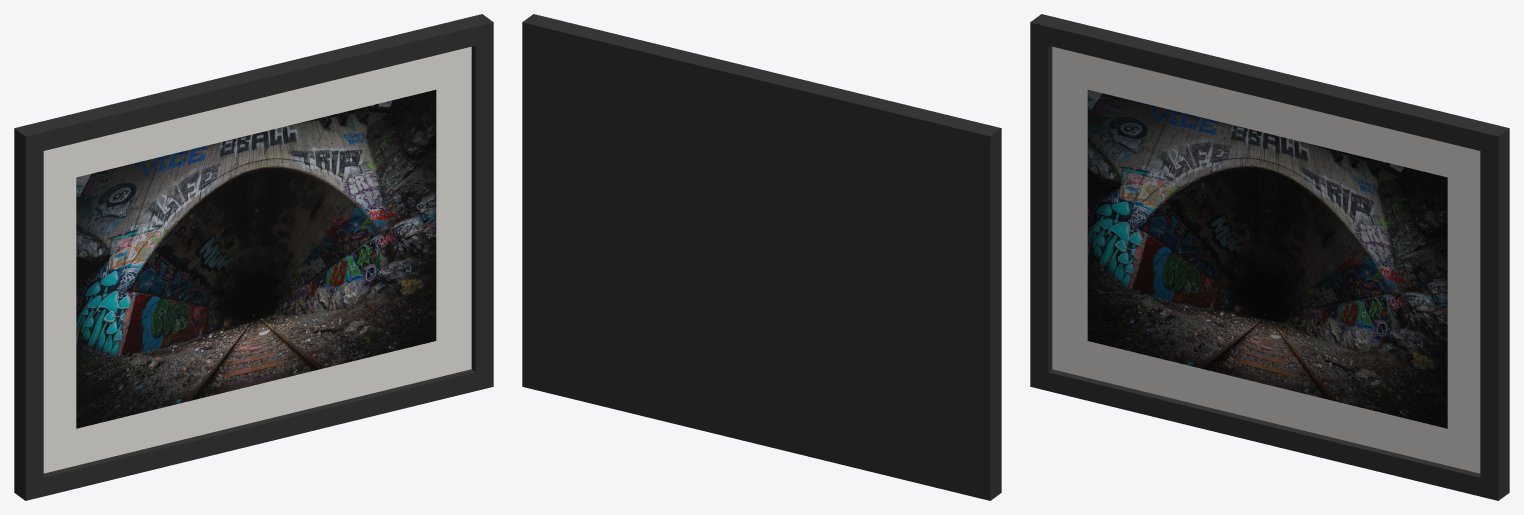
Rendered from tunneln-40.gltf.
3 renders of one model, left to right at view 1: azimuth 30°, elevation 25°; view 2: azimuth 150°, elevation 25°; view 3: azimuth 330°, elevation 25°, orthographic.
Visible parts, largest first — view 1: tavla; view 2: tavla; view 3: tavla.
Part boxes in pixels (box(x1,y1,x2,y2)): tavla: box(14, 14, 493, 500); tavla: box(522, 14, 1001, 500); tavla: box(1030, 14, 1509, 500).
Bounding box in the file's own units: 0.52 × 0.3867 × 0.022.
3 materials, 1 textured.
